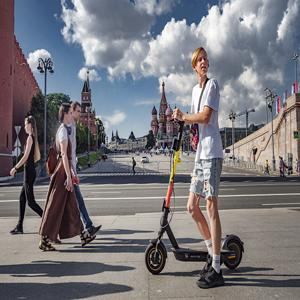human on a scooter: (143, 46, 246, 291)
